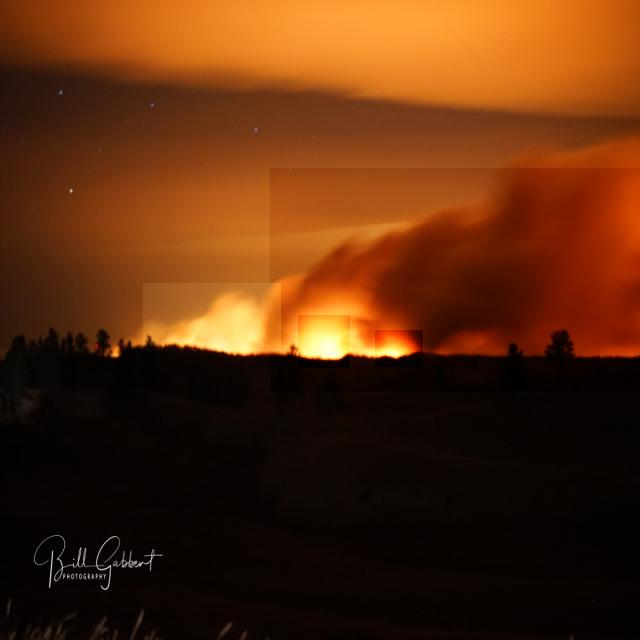Fire: (298, 315, 350, 368), (375, 330, 423, 367)
Smoke: (270, 168, 640, 392), (143, 283, 281, 351)
